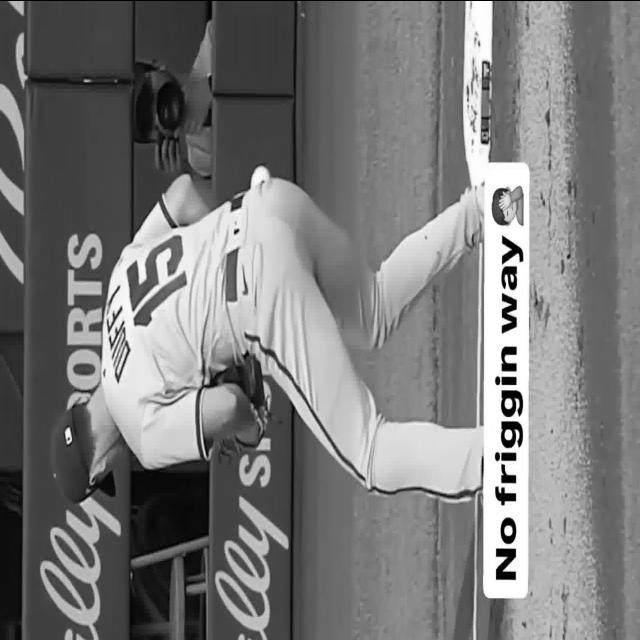base: (462, 0, 492, 184)
baseball_glove: (210, 351, 270, 407), (220, 438, 246, 453)
